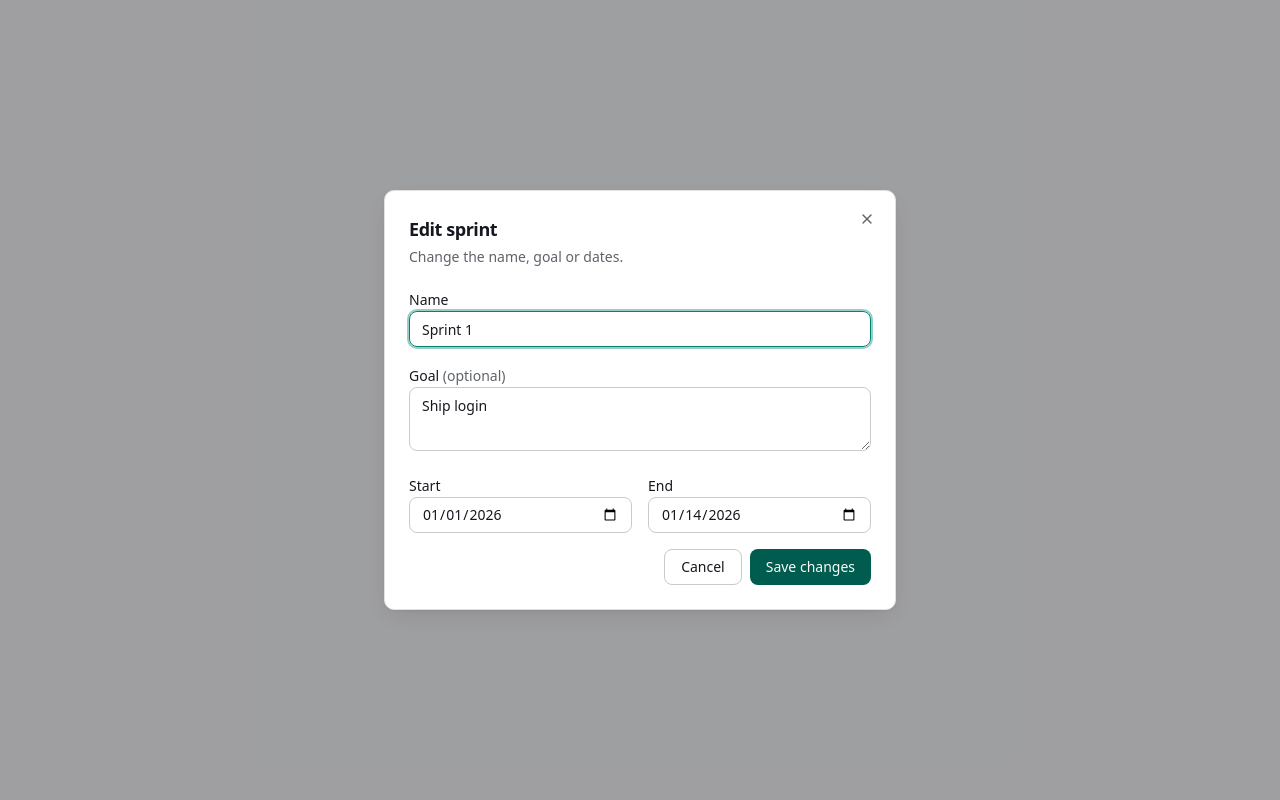
Test: SprintFormDialog › shows backend validation errors on the matching field and keeps the dialog open
The width and height of the screenshot is (1280, 800).
Click the button "Save changes": (810, 567) [750,549,871,585]
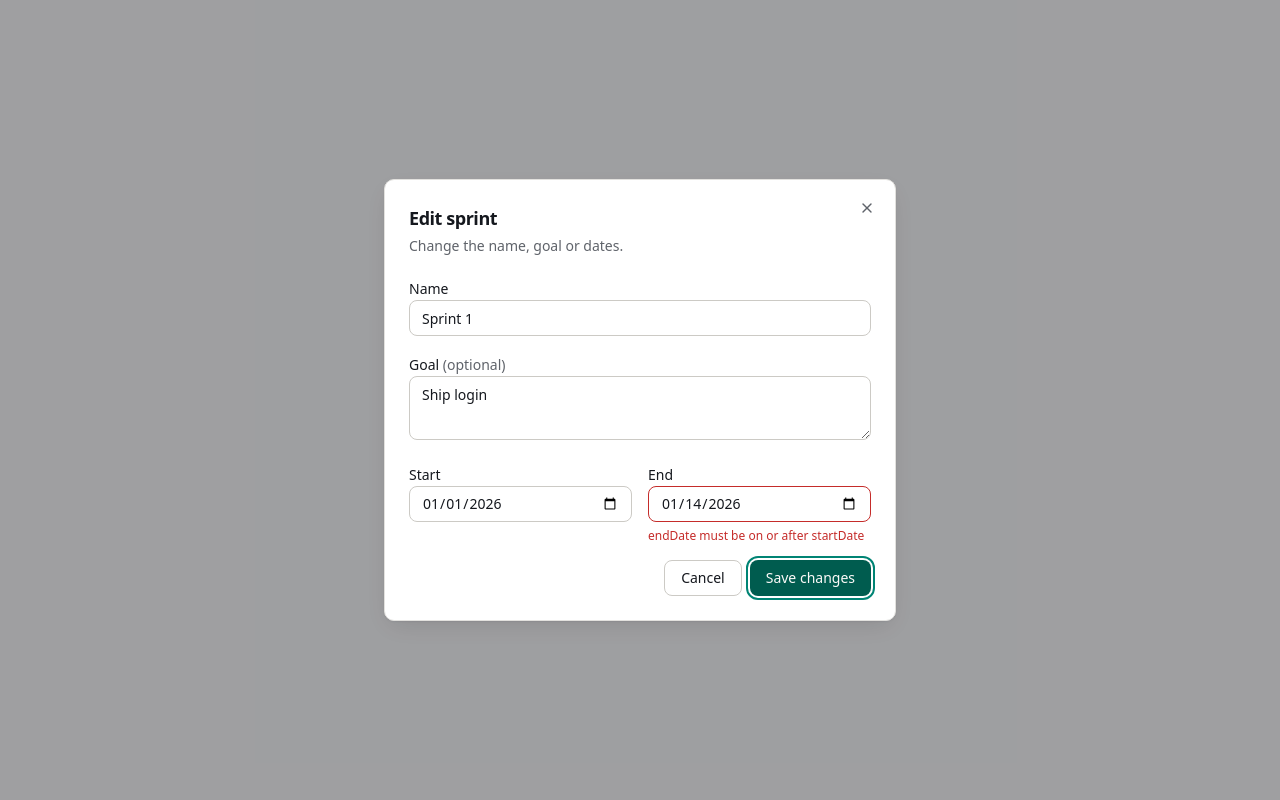
Check: the text "endDate must be on or after startDate" is shown, box [648,528,871,544]
